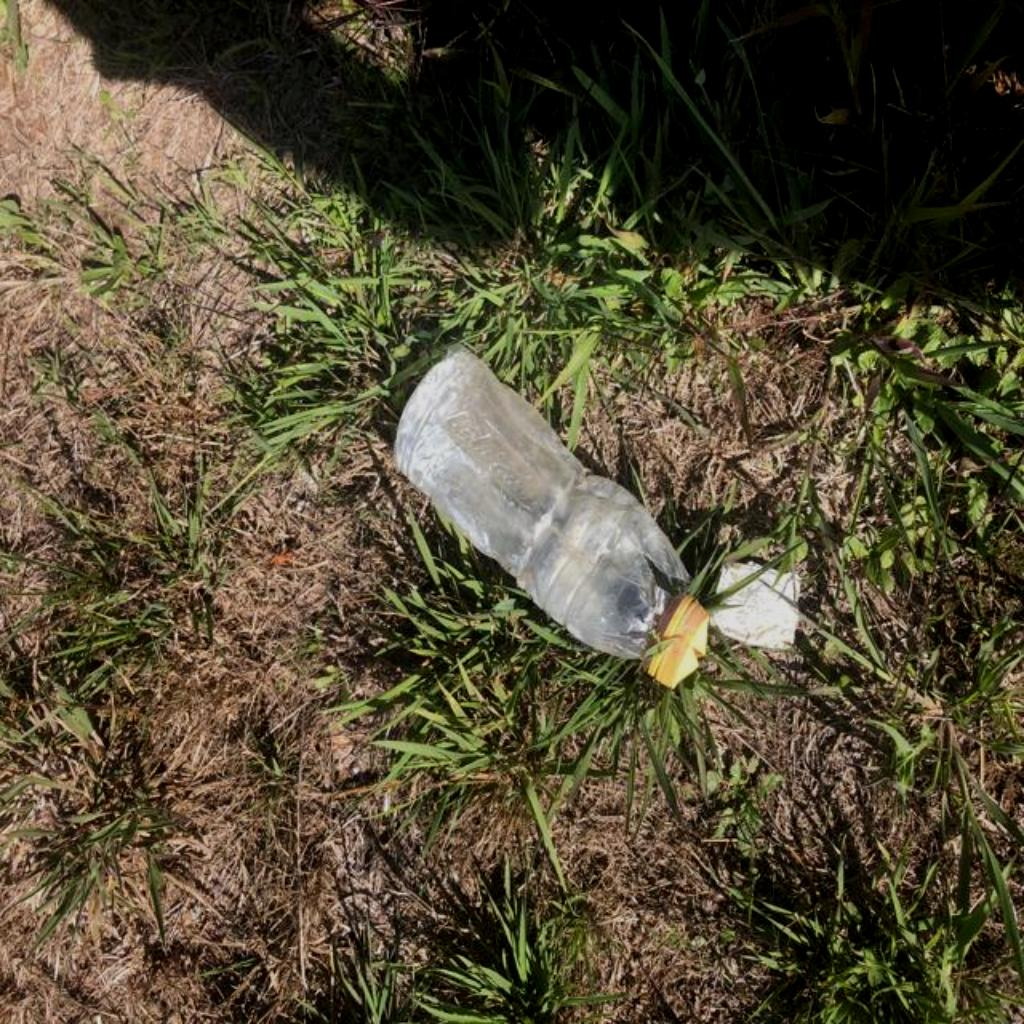garbage: (364, 343, 735, 719)
